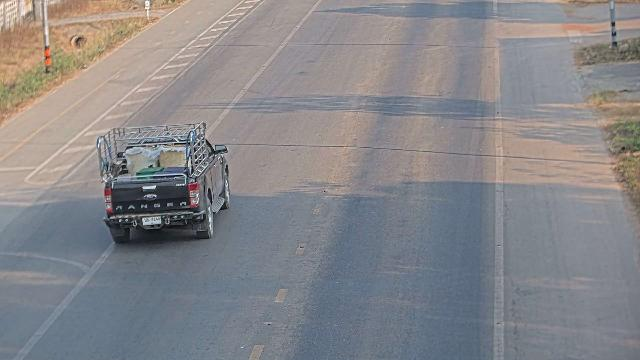pickup-truck: (95, 121, 231, 243)
